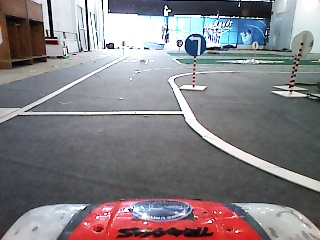turn: (183, 33, 208, 58)
